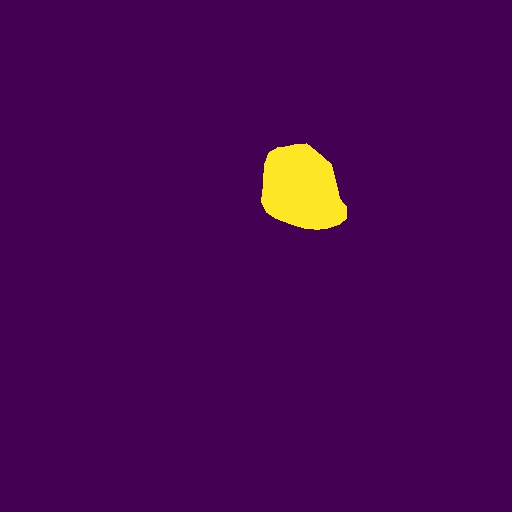Gliomia_tumour: (261, 143, 347, 230)
